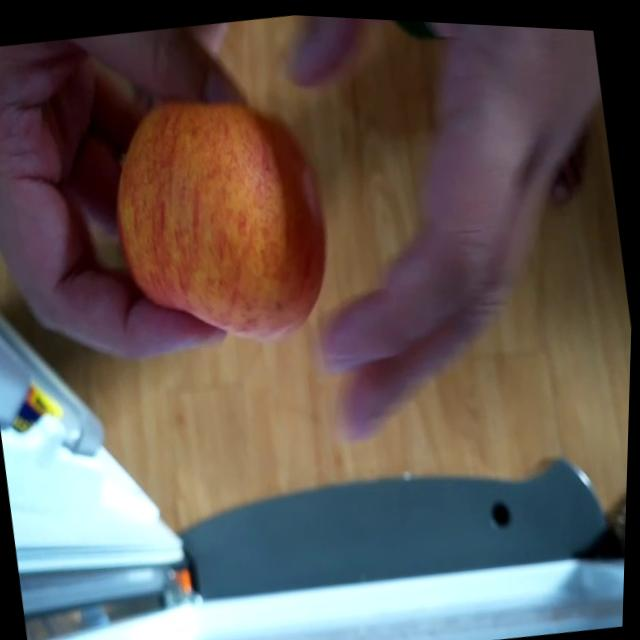apple: (109, 86, 347, 354)
